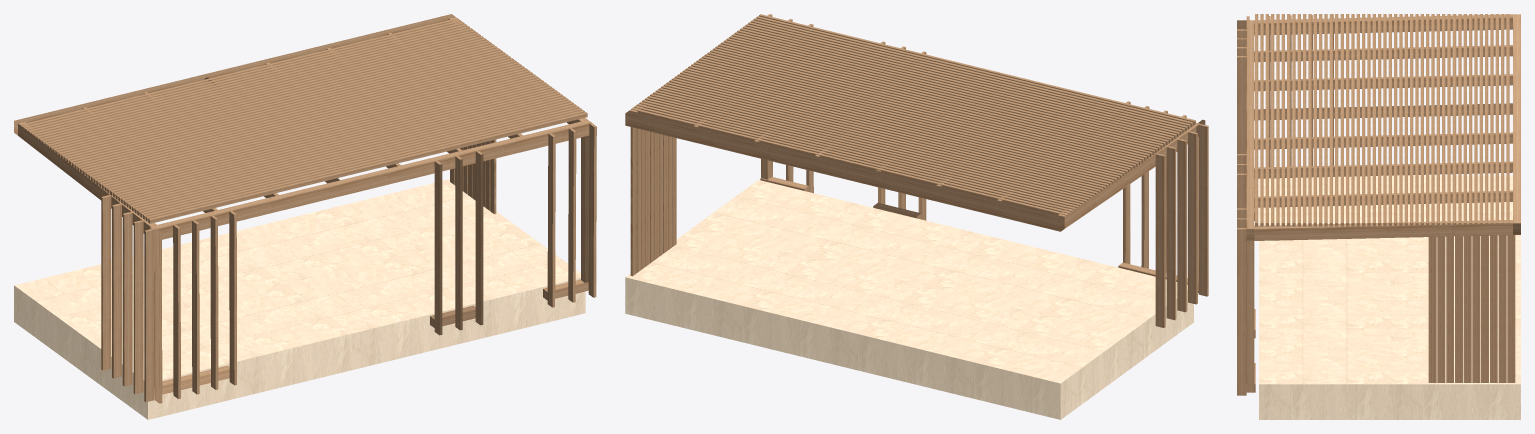
File: pergola_new_marble_floor (1).glb
3 views of the same model, side by side, from view 1: azimuth 30°, elevation 25°; view 2: azimuth 150°, elevation 25°; view 3: azimuth 270°, elevation 25° (orthographic). The views are drawn at different scales.
Visible parts, largest first — view 1: Material3, Material4 (×21), dense_beam_0, dense_beam_19, dense_beam_4, dense_beam_11, dense_beam_8, dense_beam_12, dense_beam_16, dense_beam_1, dense_beam_7, dense_beam_9 (+38 smaller); view 2: Material3, Material4 (×9), dense_beam_47, dense_beam_19, dense_beam_3, dense_beam_16, dense_beam_22, dense_beam_12, dense_beam_2, dense_beam_4, dense_beam_9, dense_beam_13 (+48 smaller); view 3: Material3, Material4 (×14), wall_beam_rotated_node_8, wall_beam_rotated_node_9, wall_beam_rotated_node_4, wall_beam_rotated_node_5, wall_beam_rotated_node_1, wall_beam_rotated_node_0, wall_beam_rotated_node_7, wall_beam_rotated_node_6, wall_beam_rotated_node_2, wall_beam_rotated_node_3 (+48 smaller).
Boxes of the visible parts, bbox=[...] form: Material3: bbox=[14, 179, 585, 419]; Material4 (×21): bbox=[14, 14, 596, 403]; dense_beam_0: bbox=[148, 112, 587, 223]; dense_beam_19: bbox=[96, 74, 535, 185]; dense_beam_4: bbox=[137, 104, 576, 215]; dense_beam_11: bbox=[118, 90, 557, 201]; dense_beam_8: bbox=[126, 96, 565, 207]; dense_beam_12: bbox=[115, 88, 554, 199]; dense_beam_16: bbox=[104, 80, 543, 191]; dense_beam_1: bbox=[145, 110, 584, 221]; dense_beam_7: bbox=[129, 98, 568, 209]; dense_beam_9: bbox=[123, 94, 562, 205]; Material3: bbox=[625, 180, 1193, 419]; Material4 (×9): bbox=[625, 101, 1208, 327]; dense_beam_47: bbox=[631, 108, 1067, 216]; dense_beam_19: bbox=[707, 52, 1144, 163]; dense_beam_3: bbox=[750, 20, 1187, 131]; dense_beam_16: bbox=[715, 46, 1152, 157]; dense_beam_22: bbox=[699, 58, 1136, 168]; dense_beam_12: bbox=[726, 38, 1163, 149]; dense_beam_2: bbox=[753, 18, 1190, 129]; dense_beam_4: bbox=[748, 22, 1185, 133]; dense_beam_9: bbox=[734, 32, 1171, 143]; dense_beam_13: bbox=[723, 40, 1160, 151]; Material3: bbox=[1259, 175, 1520, 419]; Material4 (×14): bbox=[1237, 14, 1520, 395]; wall_beam_rotated_node_8: bbox=[1498, 235, 1506, 382]; wall_beam_rotated_node_9: bbox=[1507, 235, 1515, 382]; wall_beam_rotated_node_4: bbox=[1463, 236, 1471, 382]; wall_beam_rotated_node_5: bbox=[1472, 236, 1480, 382]; wall_beam_rotated_node_1: bbox=[1437, 236, 1445, 382]; wall_beam_rotated_node_0: bbox=[1428, 237, 1436, 382]; wall_beam_rotated_node_7: bbox=[1490, 235, 1497, 382]; wall_beam_rotated_node_6: bbox=[1481, 235, 1488, 382]; wall_beam_rotated_node_2: bbox=[1446, 236, 1453, 382]; wall_beam_rotated_node_3: bbox=[1455, 236, 1462, 382].
Size of the model in its own units: 301 by 130 by 170.
Materials: 2 (2 with a texture image).
